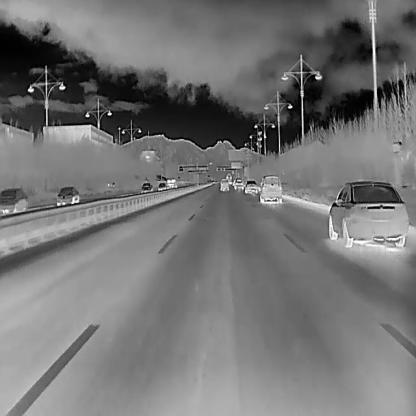car: (328, 180, 408, 247), (0, 187, 27, 214), (258, 175, 282, 204), (56, 186, 79, 205), (243, 180, 257, 194), (140, 182, 152, 194), (219, 179, 229, 191), (233, 178, 243, 189), (156, 182, 166, 189)
truck: (166, 178, 176, 188), (226, 172, 232, 184)
